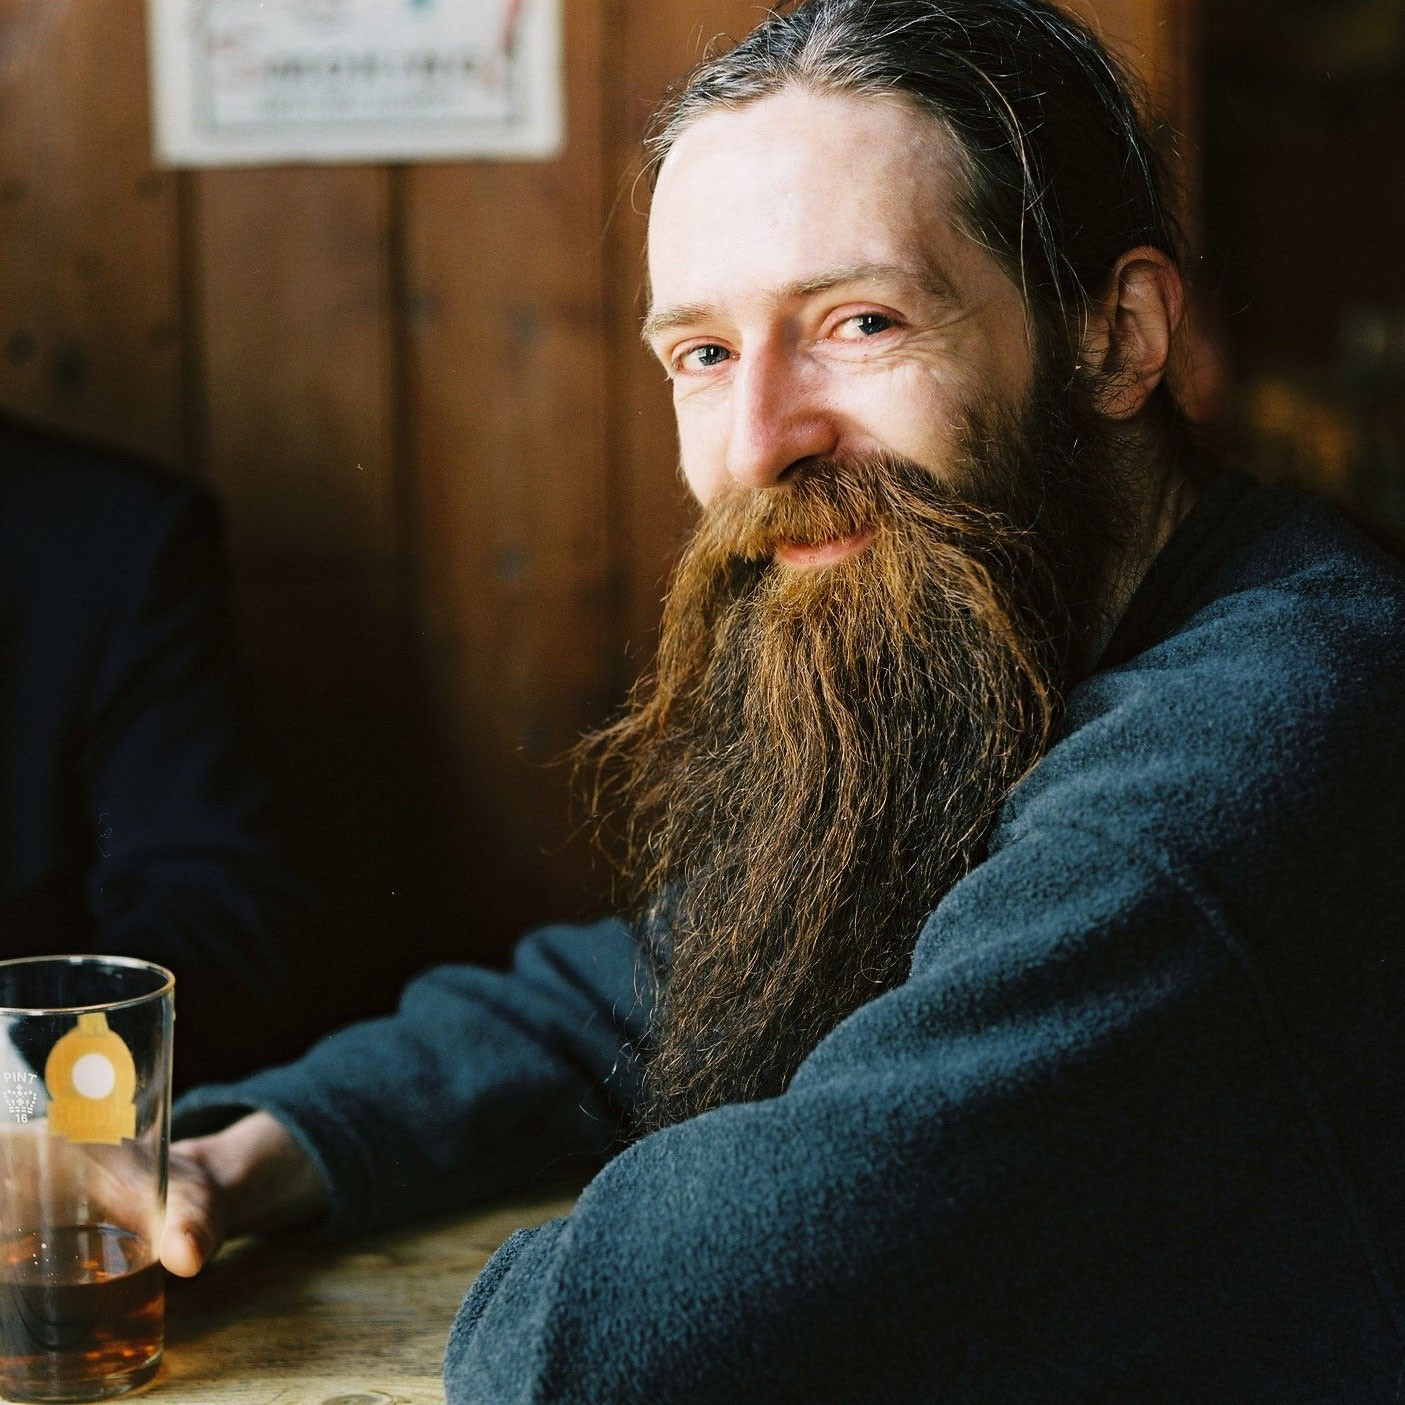face_no_mask: (641, 9, 1199, 636)
